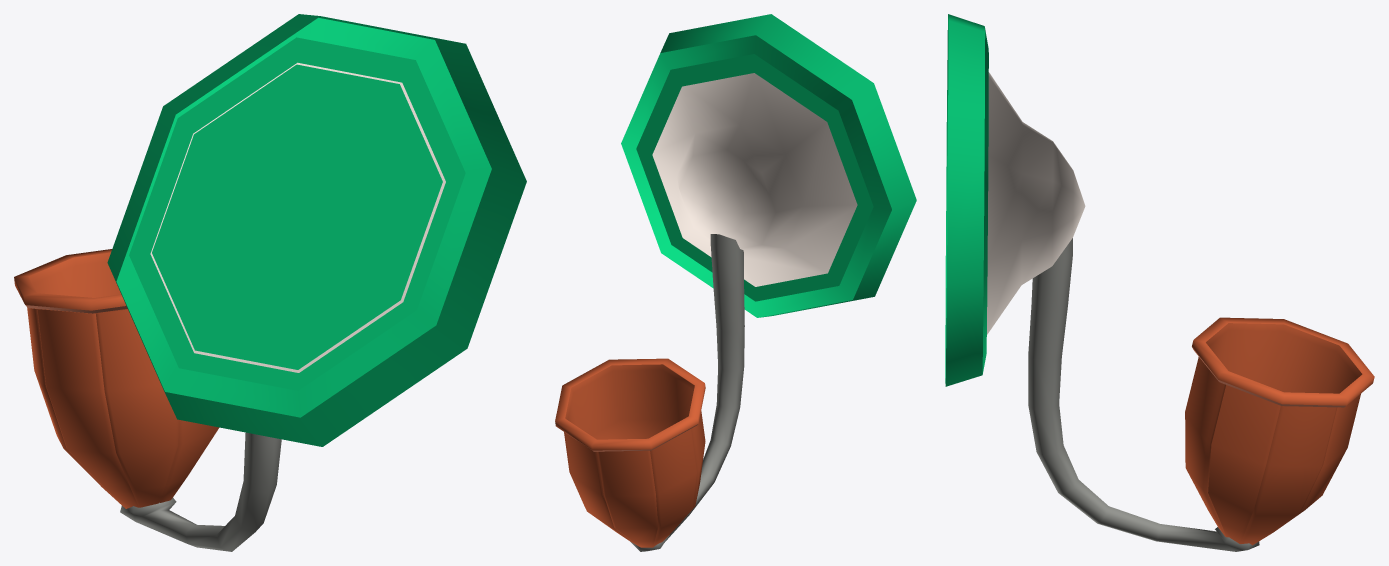
The model's file is WallLamp.fbx.
3 renders of one model, left to right at view 1: azimuth 30°, elevation 25°; view 2: azimuth 150°, elevation 25°; view 3: azimuth 270°, elevation 25°, orthographic. The views are drawn at different scales.
Visible parts, largest first — view 1: WallLamp; view 2: WallLamp; view 3: WallLamp.
Part boxes in pixels (box(x1,y1,x2,y2)): WallLamp: box(14, 14, 526, 551); WallLamp: box(555, 14, 916, 551); WallLamp: box(945, 14, 1374, 551).
Bounding box in the file's own units: 0.6727 × 0.9917 × 0.728.
